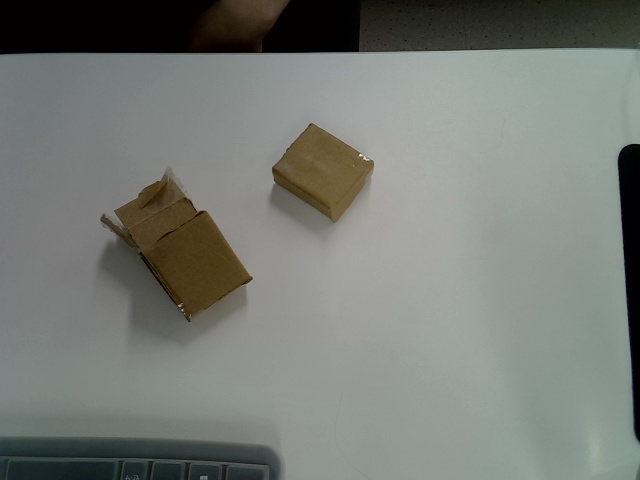defect: (101, 166, 200, 251)
normal: (141, 209, 253, 322), (273, 124, 375, 223)
